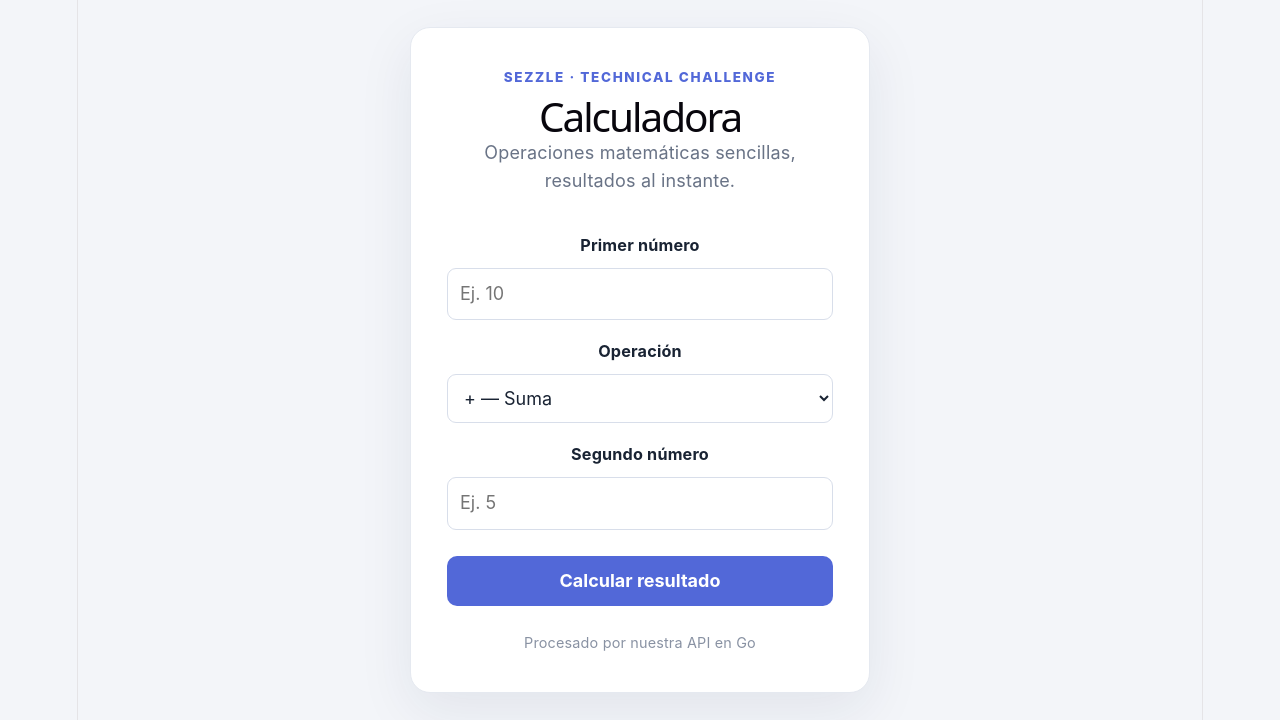
Test: Calculator › sends numbers to the API and displays the result
Type "10" into the number field labelled "Primer número".
click(640, 294); type("10")  # box [447, 268, 833, 320]
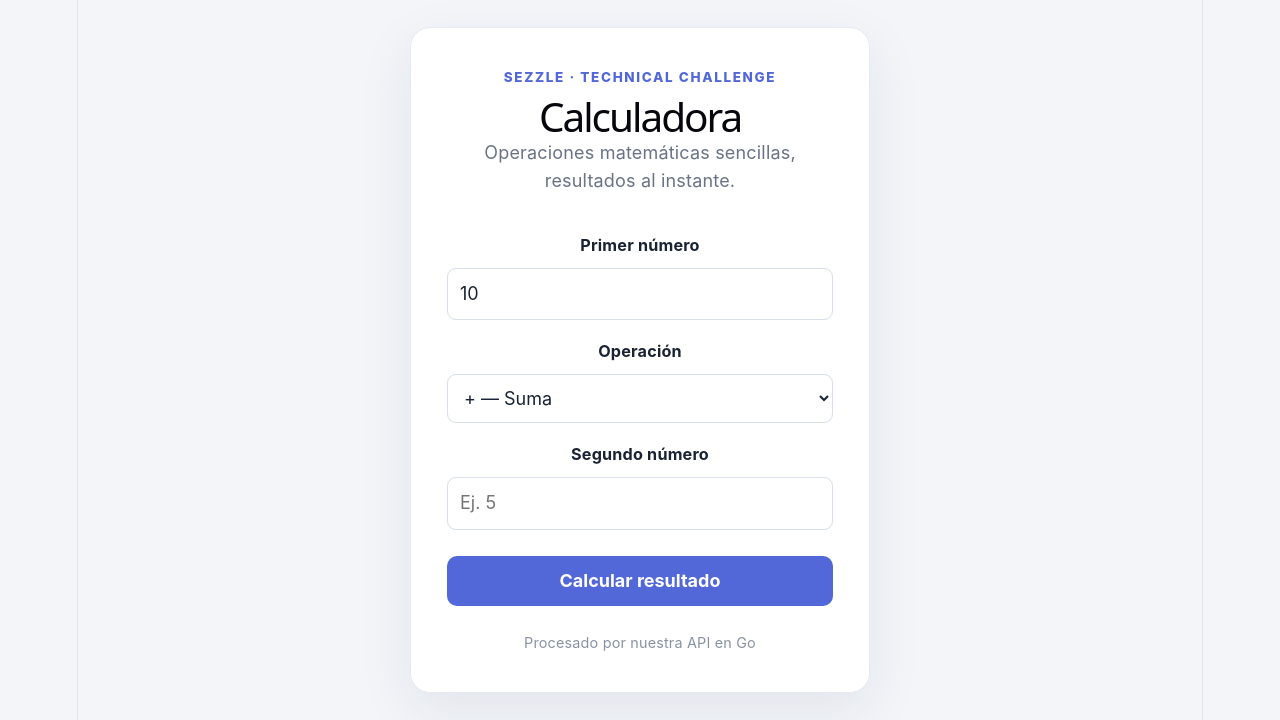
Type "5" into the number field labelled "Segundo número".
click(640, 504); type("5")  # box [447, 478, 833, 530]
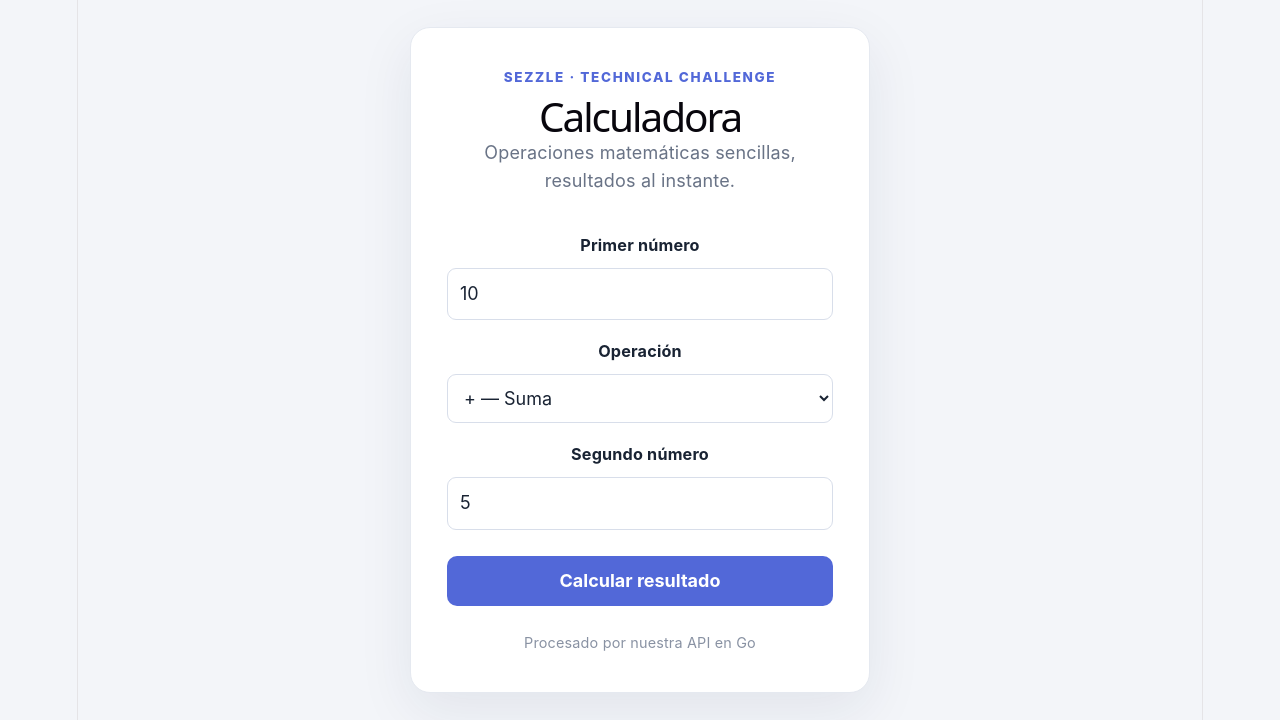
Click the button "Calcular resultado".
click(640, 581)  # box [447, 556, 833, 606]
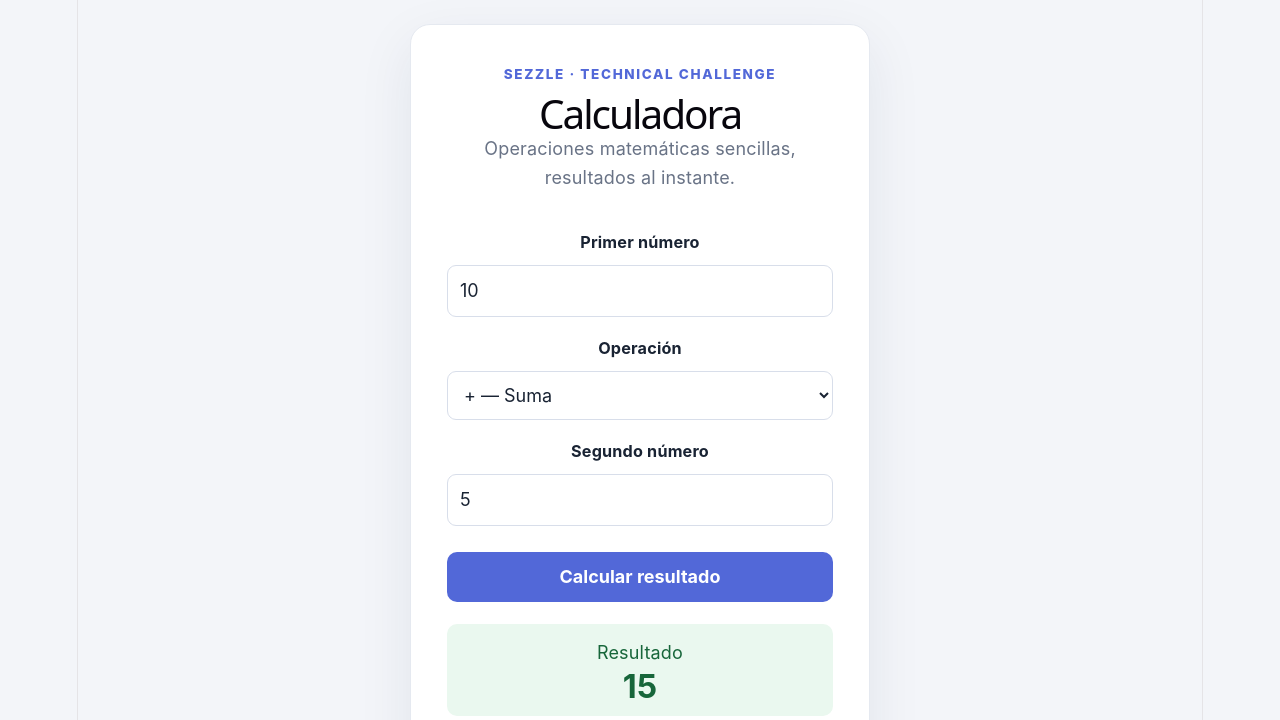
Now the text "15" is shown, box [623, 667, 657, 706]
